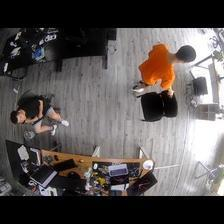normal: (127, 40, 196, 96), (7, 91, 73, 140)
